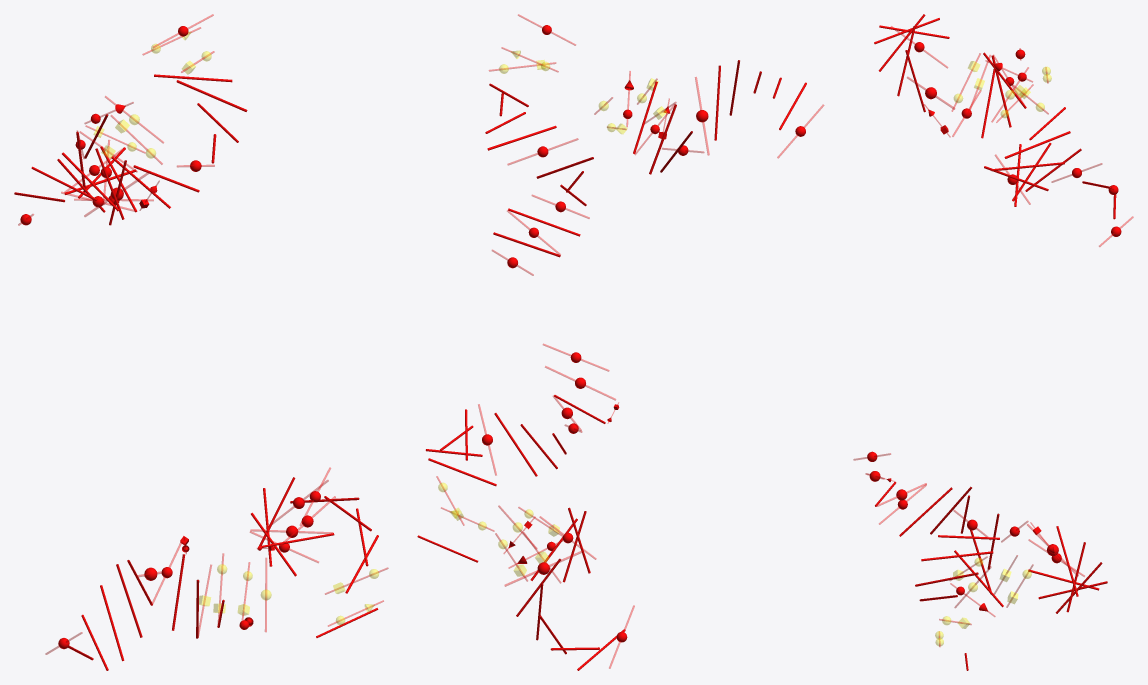
The model's file is candidate.gltf.
3 renders of one model, left to right at view 1: azimuth 30°, elevation 25°; view 2: azimuth 150°, elevation 25°; view 3: azimuth 270°, elevation 25°, orthographic. The views are drawn at different scales.
Size of the model in its own units: 75.23 by 120 by 51.85.
